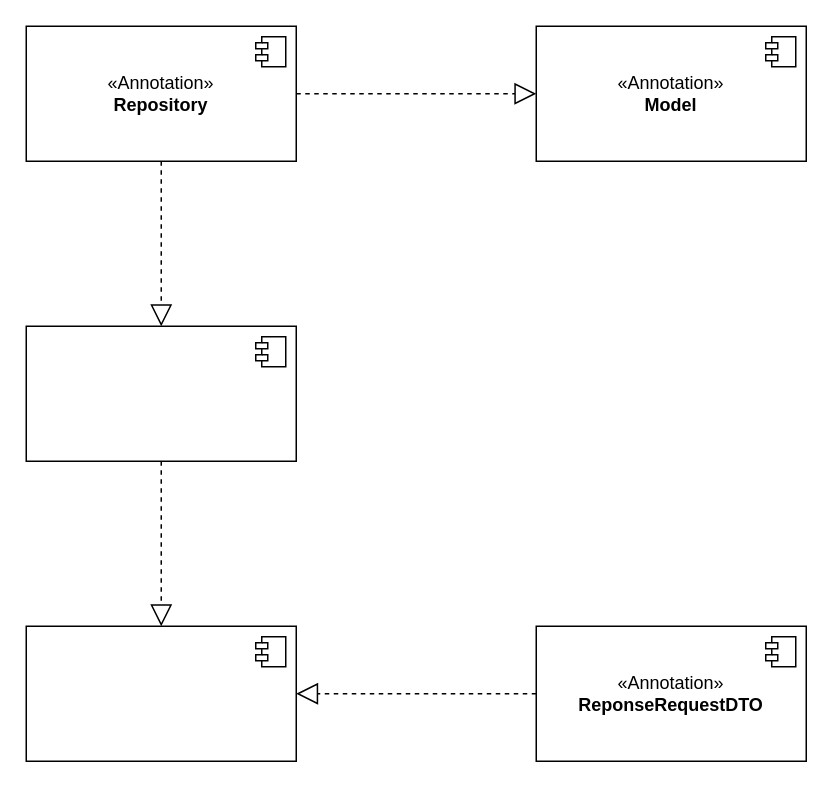
Some shapes in this 833 by 788 pixel diagram are drawn without their labels. Here are the shapes that lost their labels. From the top down, the centre of each, then its label:
the point at 160,393: «Annotation» Service
the point at 160,693: «Annotation» Controller
